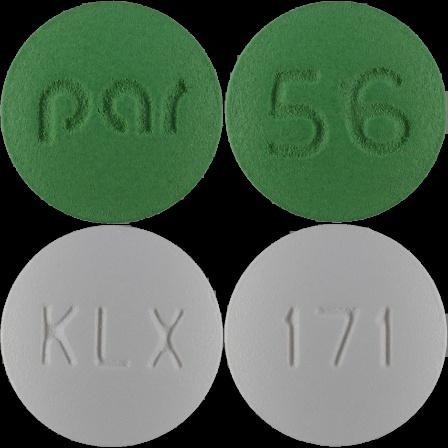35356-592: (0, 0, 224, 224)
